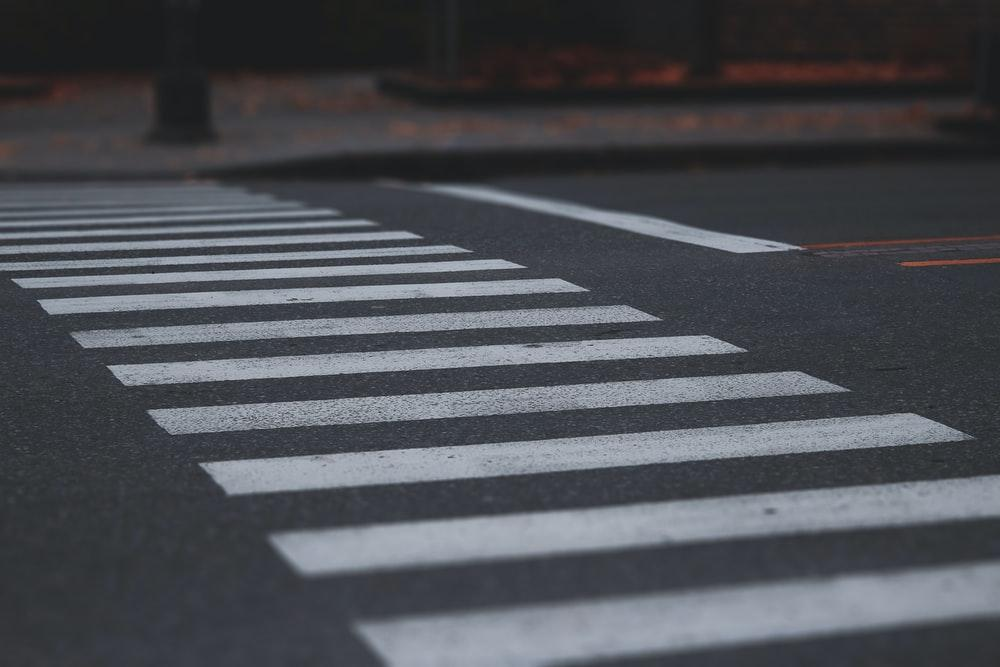crosswalk: (0, 172, 1000, 667)
